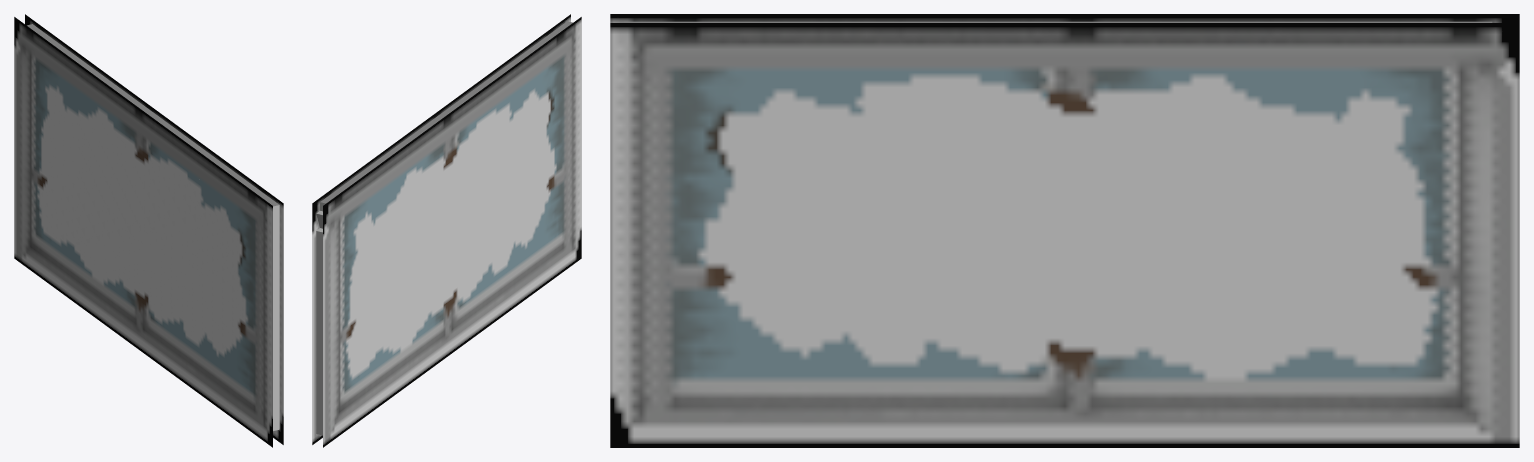
Rendered from pz_native_fixtures_windows_white_68_frame.obj.
3 renders of one model, left to right at view 1: azimuth 30°, elevation 25°; view 2: azimuth 150°, elevation 25°; view 3: azimuth 270°, elevation 25°, orthographic. The views are drawn at different scales.
Visible parts, largest first — view 1: pz_native_fixtures_windows_white_68_frame; view 2: pz_native_fixtures_windows_white_68_frame; view 3: pz_native_fixtures_windows_white_68_frame.
Part boxes in pixels (x1=…): pz_native_fixtures_windows_white_68_frame: x1=14, y1=14, x2=283, y2=447; pz_native_fixtures_windows_white_68_frame: x1=312, y1=14, x2=581, y2=447; pz_native_fixtures_windows_white_68_frame: x1=610, y1=14, x2=1519, y2=447.
Size of the model in its own units: 0.04 by 0.875 by 1.7.
1 material, 1 textured.
